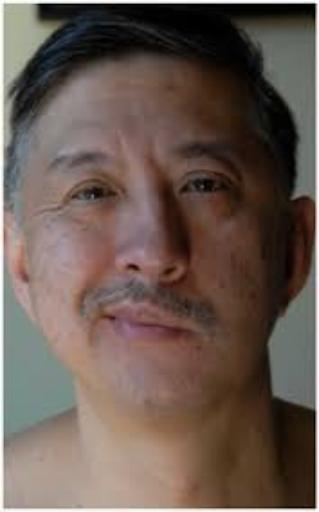left_eye: (179, 173, 235, 203)
left_lip_corner: (176, 320, 199, 344)
right_eye: (67, 185, 120, 211)
right_lip_corner: (95, 304, 120, 332)
